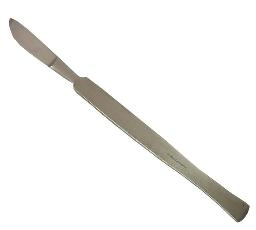scalpel: (8, 18, 250, 224)
